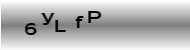6: (24, 22, 37, 36)
L: (52, 18, 67, 33)
P: (87, 10, 101, 23)
f: (74, 15, 84, 28)
y: (40, 11, 55, 26)
